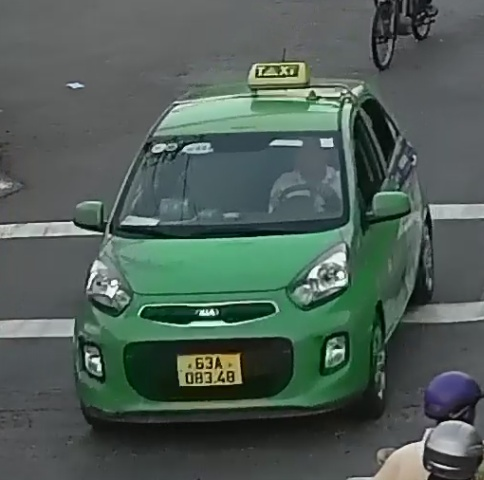vehicle plate: (171, 350, 253, 388)
